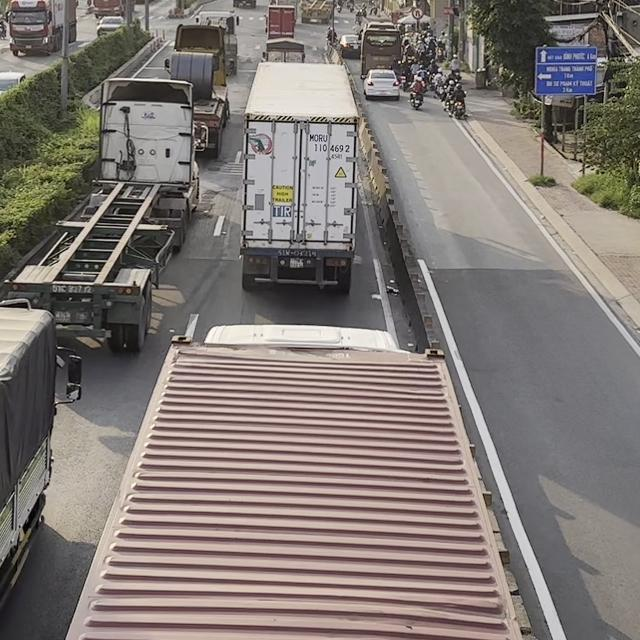bus: (359, 23, 402, 78)
car: (362, 68, 400, 100), (338, 33, 361, 58)
motorcycle: (450, 90, 467, 120), (408, 81, 424, 109)
truck: (64, 322, 526, 640), (0, 74, 210, 355), (238, 61, 360, 294), (0, 297, 82, 639), (164, 23, 235, 158), (262, 37, 305, 63), (265, 4, 296, 39)
